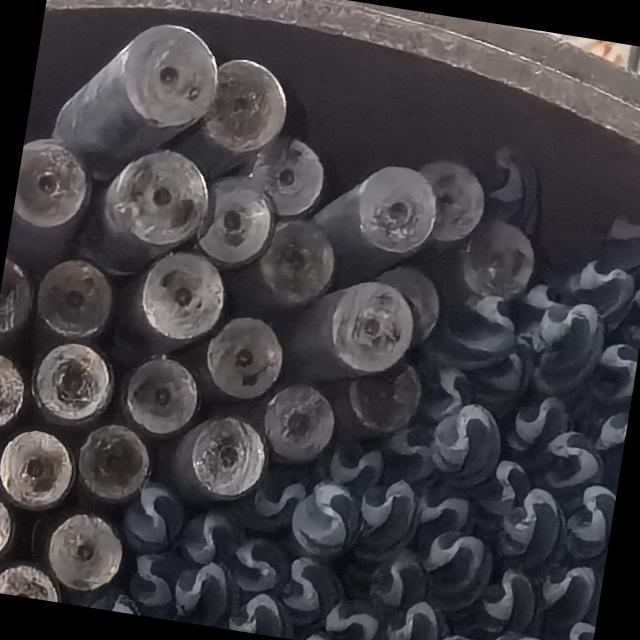tool: (98, 141, 212, 254), (116, 22, 219, 133), (126, 247, 230, 350), (335, 157, 439, 258), (202, 55, 292, 158), (29, 338, 118, 432), (182, 412, 269, 508), (326, 286, 416, 377), (196, 172, 279, 270), (12, 133, 95, 230), (199, 310, 286, 402), (119, 352, 207, 439), (71, 420, 155, 510), (254, 378, 336, 468), (35, 259, 121, 343), (346, 351, 428, 437), (252, 133, 331, 222), (412, 155, 491, 244), (456, 216, 538, 300), (258, 222, 336, 308), (0, 425, 77, 511), (42, 507, 116, 587), (379, 263, 448, 341), (0, 557, 67, 603), (0, 255, 37, 335), (0, 350, 31, 430), (0, 481, 17, 567)
tool_b: (402, 527, 496, 617), (426, 399, 506, 493), (496, 484, 576, 572), (460, 559, 542, 638), (532, 296, 608, 376), (352, 474, 426, 556), (126, 536, 196, 620), (118, 477, 190, 558), (168, 554, 242, 628), (364, 541, 435, 612), (504, 387, 574, 457), (537, 556, 605, 626), (451, 292, 516, 364), (488, 144, 550, 218), (294, 483, 359, 553), (537, 428, 603, 495), (562, 478, 618, 556), (571, 255, 638, 320), (278, 547, 339, 617), (473, 454, 535, 520), (177, 504, 240, 568), (228, 532, 289, 594), (320, 589, 393, 640), (326, 440, 386, 500), (386, 426, 444, 486), (593, 329, 640, 403), (413, 481, 475, 536), (482, 330, 538, 390), (518, 266, 573, 324), (228, 589, 292, 638), (252, 472, 306, 530), (383, 596, 453, 640), (420, 364, 476, 419), (595, 210, 640, 272), (543, 613, 596, 640), (598, 410, 629, 450), (485, 629, 558, 640), (430, 631, 491, 640)
